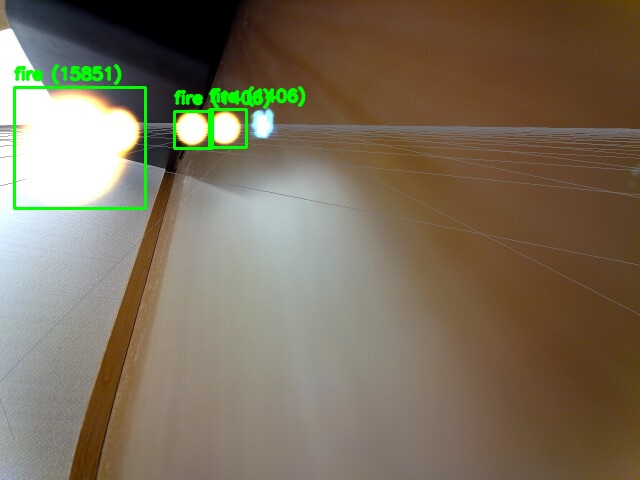fire: (14, 87, 145, 208), (174, 111, 212, 148), (209, 109, 246, 147)
